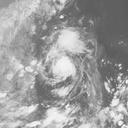cyclone: (50, 56, 78, 80)
